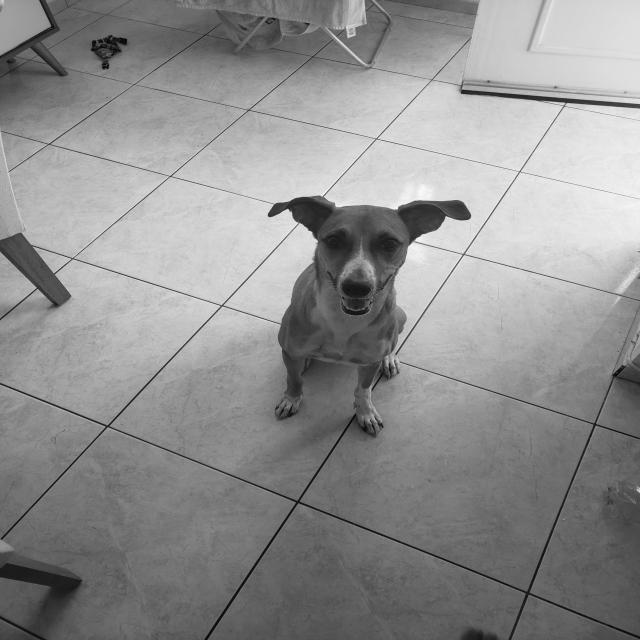sitting: (259, 189, 476, 443)
